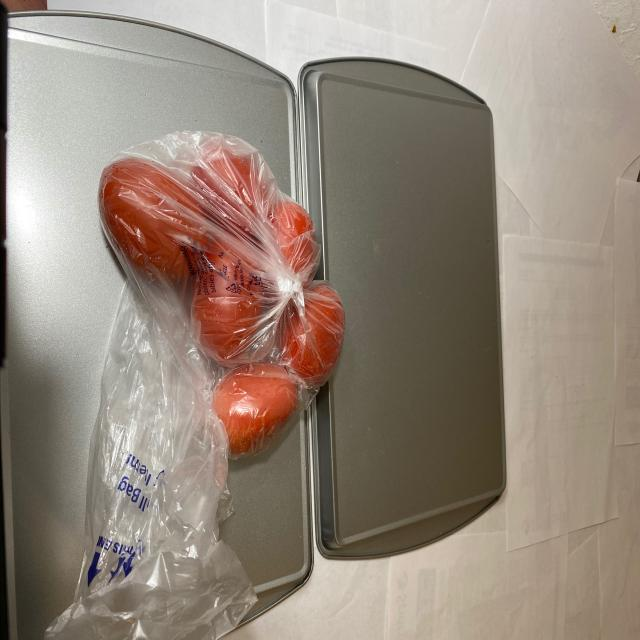tomato: (96, 138, 345, 472)
